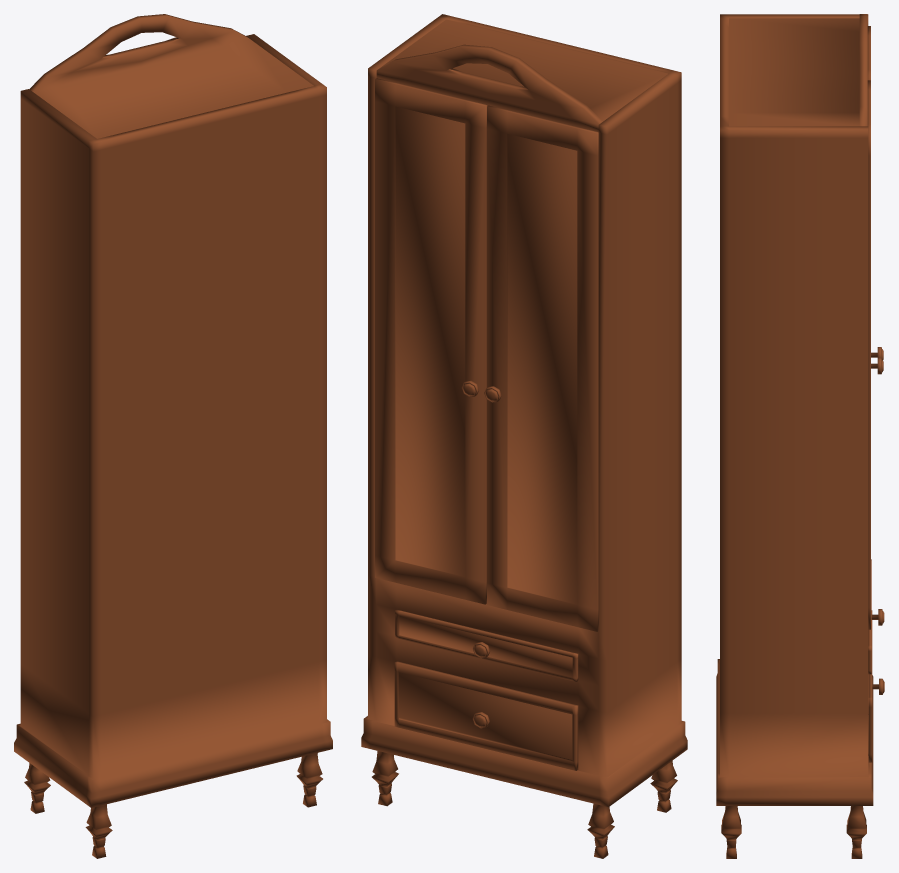
File: Armoire.glb
The picture shows the model from 3 angles, left to right: view 1: azimuth 30°, elevation 25°; view 2: azimuth 150°, elevation 25°; view 3: azimuth 270°, elevation 25°; orthographic projection. The views are drawn at different scales.
Visible parts, largest first — view 1: S_ArmoireBase_low; view 2: S_ArmoireBase_low, S_ArmoirePorteDroite_low, S_ArmoirePorteGauche_low, S_ArmoireTiroirBas_low, S_ArmoireTiroirHaut_low; view 3: S_ArmoireBase_low, S_ArmoirePorteGauche_low, S_ArmoireTiroirBas_low, S_ArmoireTiroirHaut_low.
Part boxes in pixels (left/top/right/bottom): S_ArmoireBase_low: left=14, top=14, right=332, bottom=858; S_ArmoireBase_low: left=361, top=14, right=687, bottom=858; S_ArmoirePorteDroite_low: left=484, top=105, right=598, bottom=631; S_ArmoirePorteGauche_low: left=375, top=78, right=487, bottom=604; S_ArmoireTiroirBas_low: left=394, top=661, right=578, bottom=770; S_ArmoireTiroirHaut_low: left=395, top=609, right=578, bottom=681; S_ArmoireBase_low: left=716, top=14, right=873, bottom=858; S_ArmoirePorteGauche_low: left=867, top=80, right=883, bottom=629; S_ArmoireTiroirBas_low: left=868, top=610, right=884, bottom=762; S_ArmoireTiroirHaut_low: left=868, top=559, right=884, bottom=674.
Size of the model in its own units: 0.6693 by 2.02 by 0.3971.
